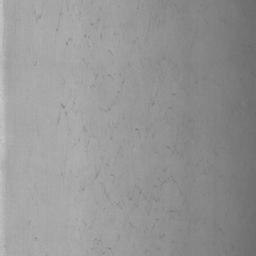Silk spot: (154, 176, 176, 188)
